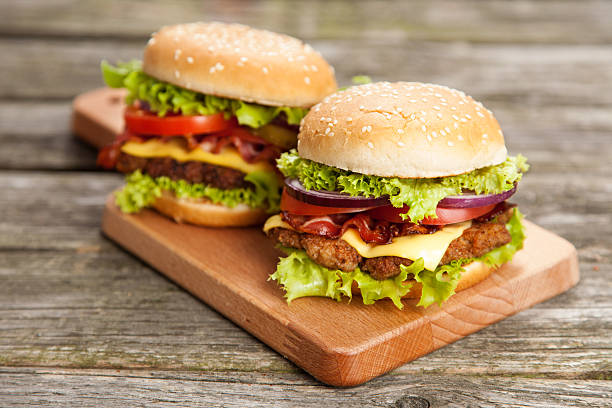hamburger: (291, 76, 520, 289), (119, 29, 341, 234)
